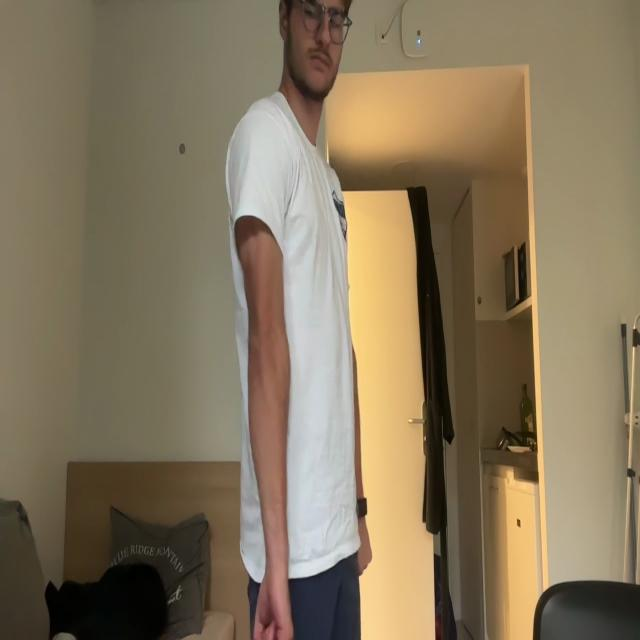elbow: (247, 318, 288, 378)
hand: (254, 569, 291, 640), (355, 498, 373, 571)
shoulder: (229, 109, 291, 206)
